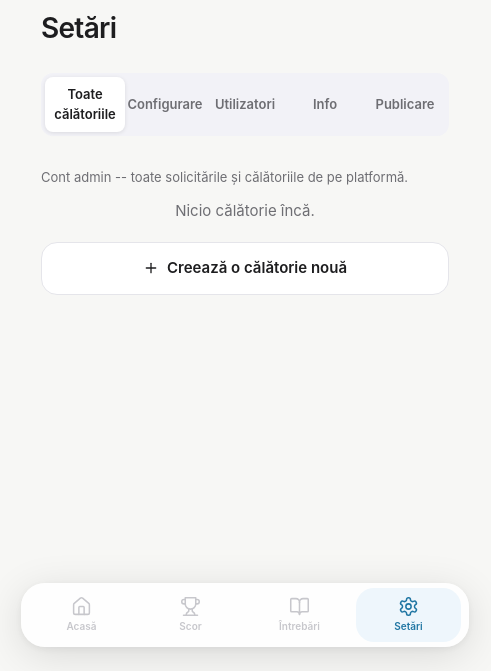
Test case: R7: Setări > Publicare tab visibility › is shown for an admin account and loads validation on open
The width and height of the screenshot is (491, 671).
Click the button "Publicare" at (405, 104), box [365,77,445,132]
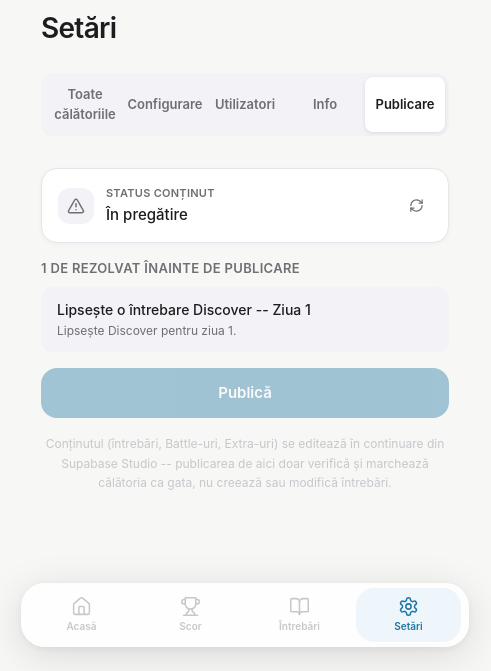
Expected: the text "Lipsește o întrebare Discover -- Ziua 1" is shown, [57,300,311,318]
